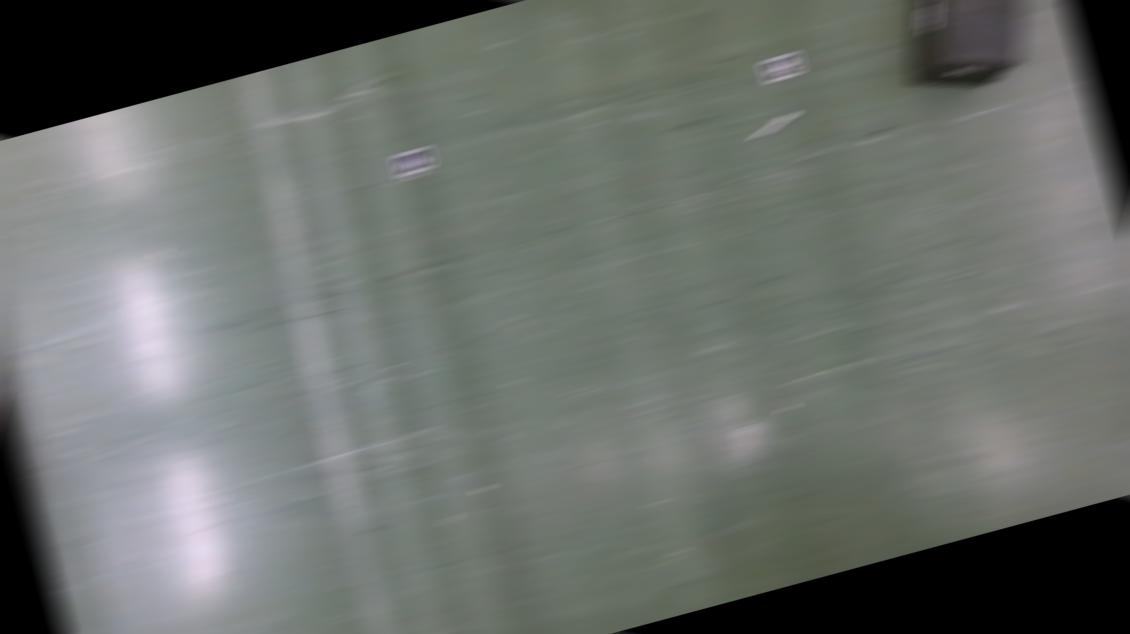probes: (750, 114, 796, 138), (260, 68, 281, 76)
rako: (877, 1, 1060, 104)
